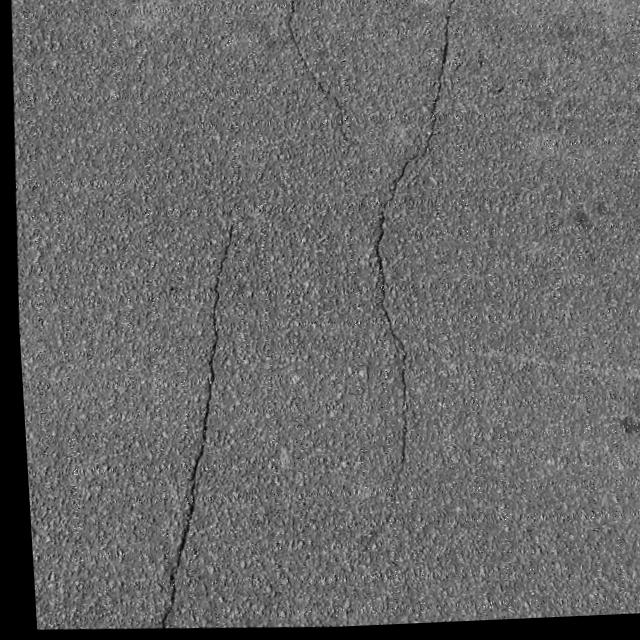Crack: (255, 0, 494, 513), (124, 198, 257, 633)
